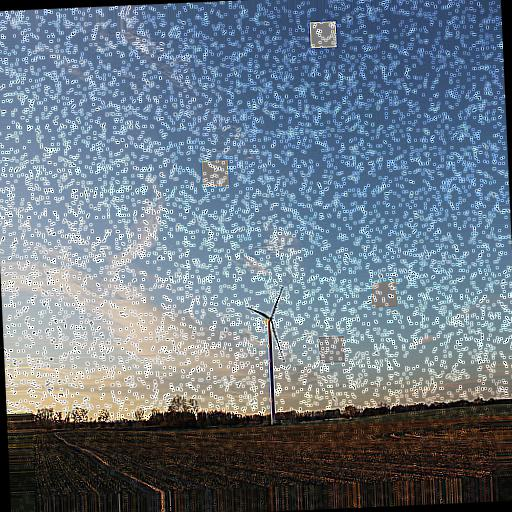wind turbine: (247, 285, 288, 424)
